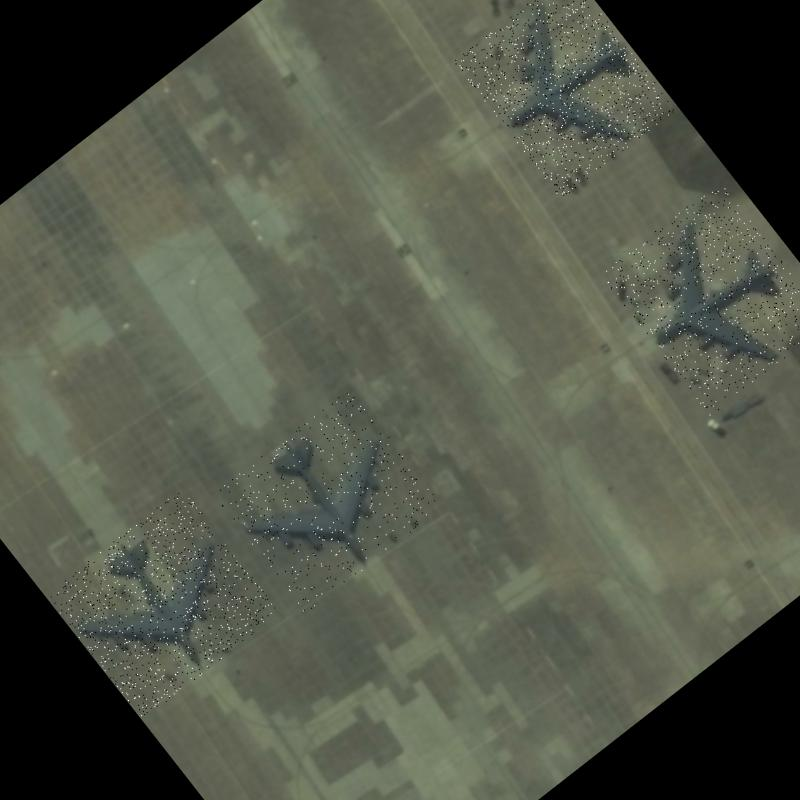A8: (45, 488, 280, 720), (212, 386, 443, 614), (600, 181, 800, 416), (453, 0, 676, 199)
